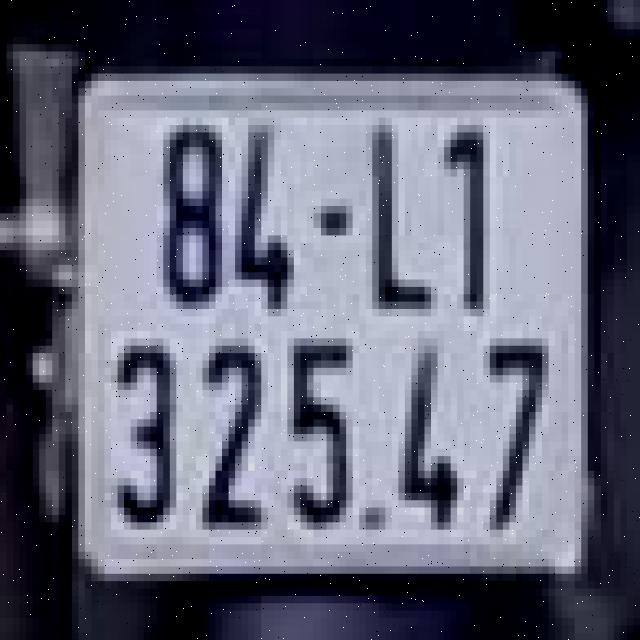1: (448, 118, 500, 324)
2: (196, 338, 268, 537)
3: (104, 335, 183, 533)
4: (395, 342, 467, 541), (232, 118, 297, 324)
5: (284, 334, 363, 540)
7: (480, 331, 558, 537)
8: (154, 118, 226, 324)
L: (359, 114, 438, 327)
